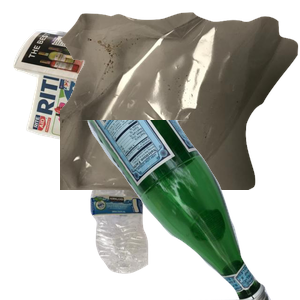glass: (75, 120, 300, 300)
paper: (11, 27, 213, 185)
plastic: (88, 158, 229, 300)
trash: (60, 10, 300, 190)
